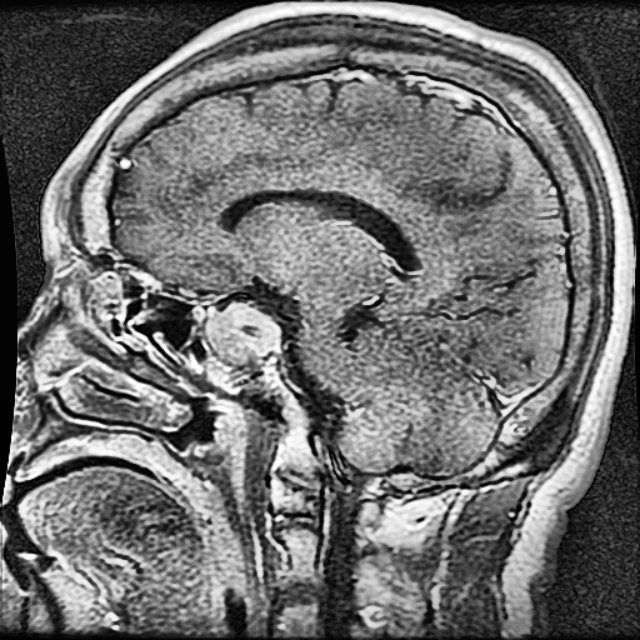Pituitary: (207, 304, 277, 360)
